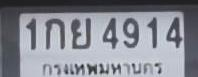1: (25, 17, 35, 49), (147, 16, 156, 48)
4: (165, 16, 181, 47), (102, 17, 117, 48)
9: (122, 17, 138, 47)
A01: (44, 17, 64, 49)
A34: (70, 17, 90, 48)
BKK: (40, 59, 165, 77)
